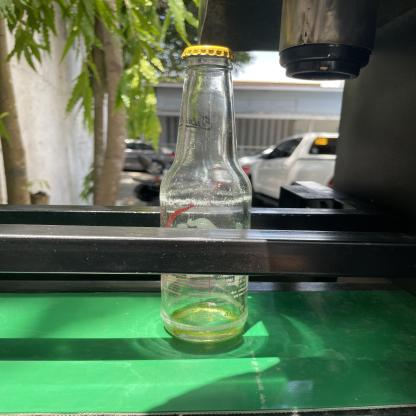Can: (156, 44, 251, 348)
